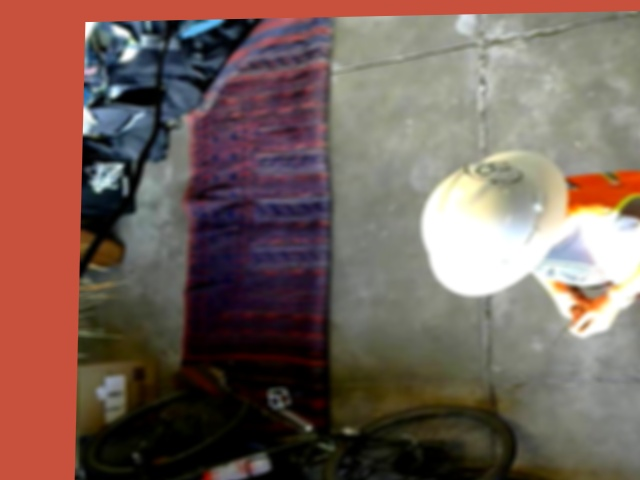eight: (463, 157, 522, 185)
